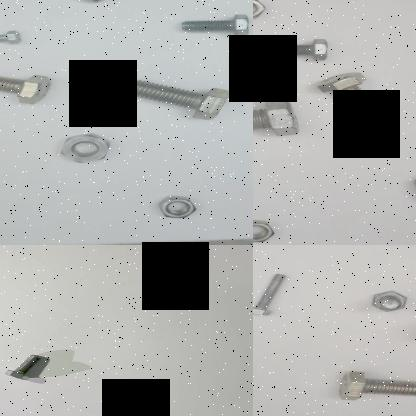Bolts: (114, 72, 242, 128), (305, 68, 395, 128), (332, 368, 416, 406), (172, 7, 253, 41), (255, 35, 333, 66), (253, 98, 300, 149), (0, 63, 55, 105), (253, 271, 294, 321), (0, 351, 44, 385), (367, 288, 416, 314), (0, 30, 26, 50)
NUTS: (53, 131, 116, 167), (149, 194, 201, 220), (253, 216, 281, 245), (253, 0, 265, 23)
